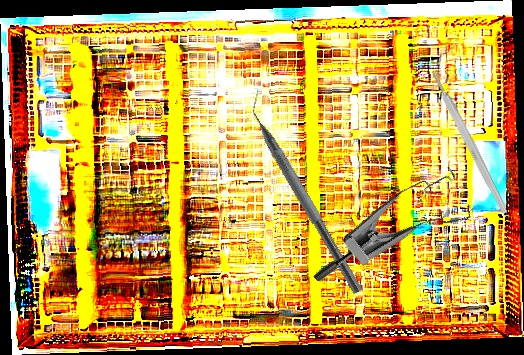Chopper: (235, 84, 378, 297)
Scalpel Handle: (428, 68, 511, 217)
Speculum: (310, 143, 487, 331)
